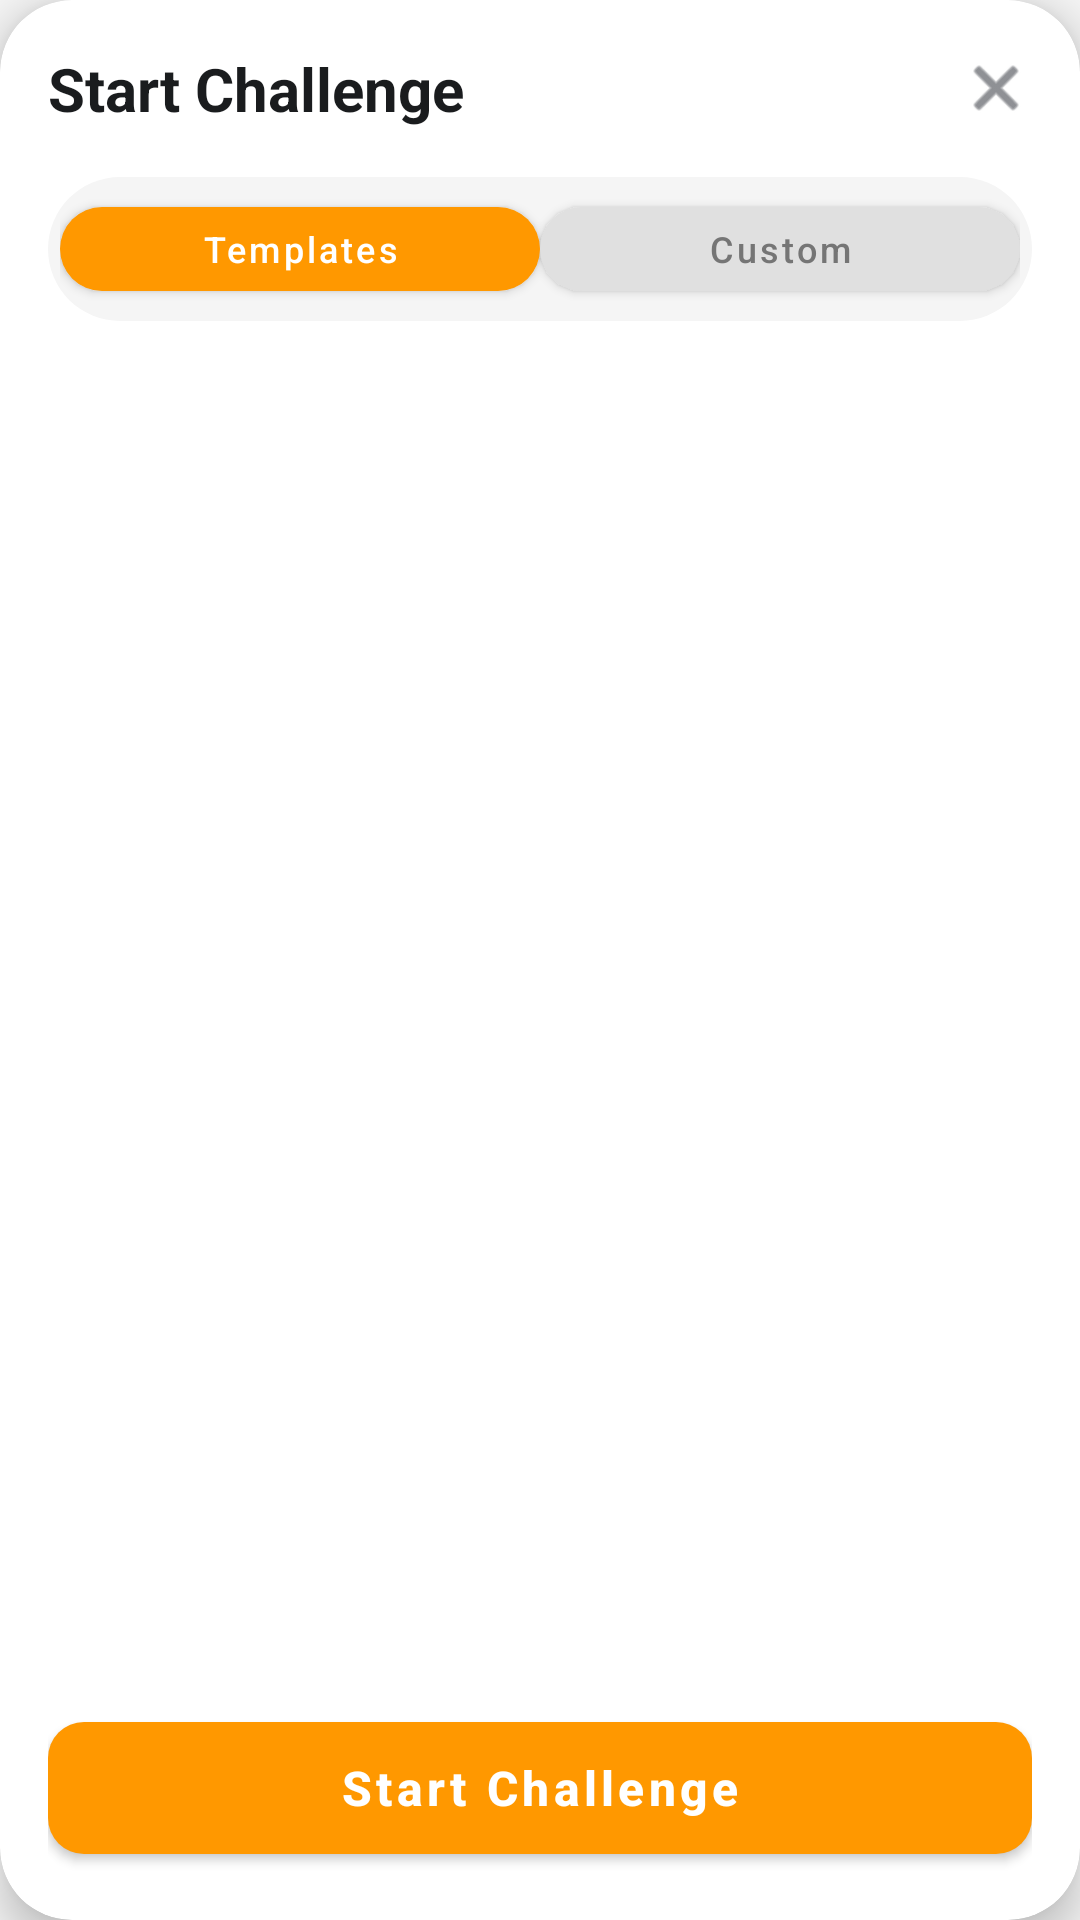

Screen size 1080×1920. Icon name, then its center in pixels as (x,y):
Close: (996,88)
